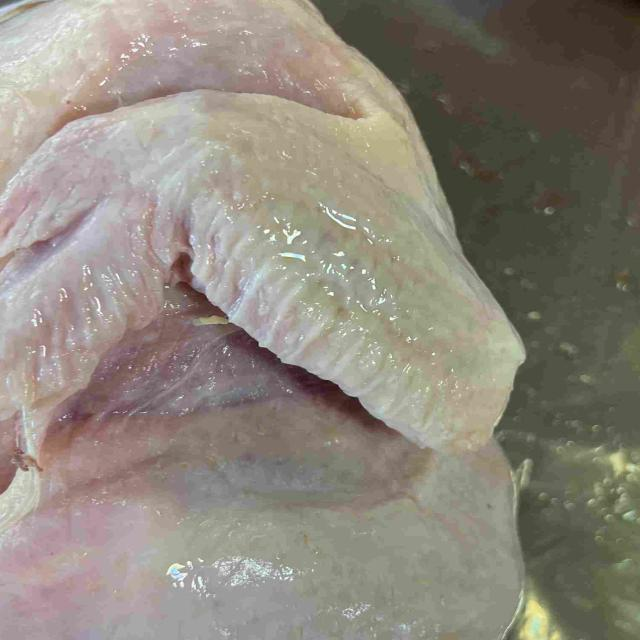leg: (0, 482, 251, 640)
wing: (0, 88, 516, 445)
